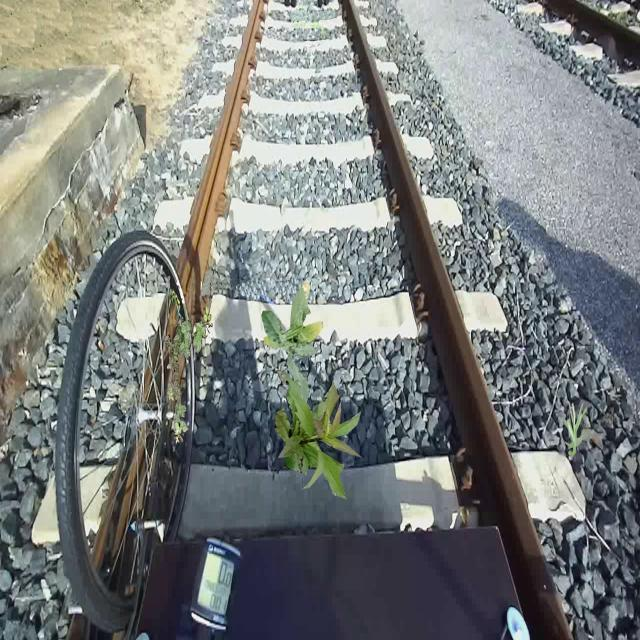Plant: (275, 370, 364, 500), (261, 280, 324, 404), (164, 307, 212, 445), (562, 400, 588, 457)
